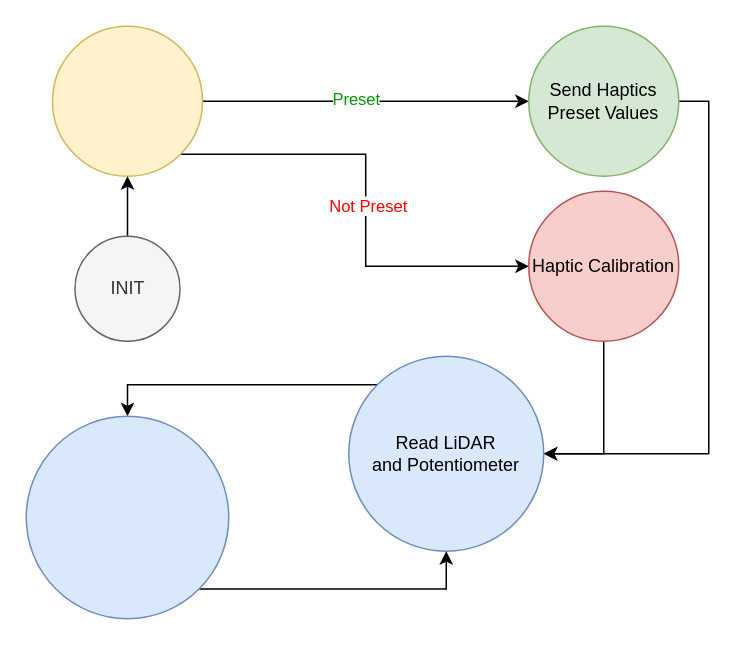
Some shapes in this 747 by 645 pixel diagram are drawn without their labels. Here are the shapes that lost their labels. From the top down, the centre of each, then its label:
point (126, 100): Read EEPROM for Haptic Presets
point (127, 517): Update Haptic Intensity
